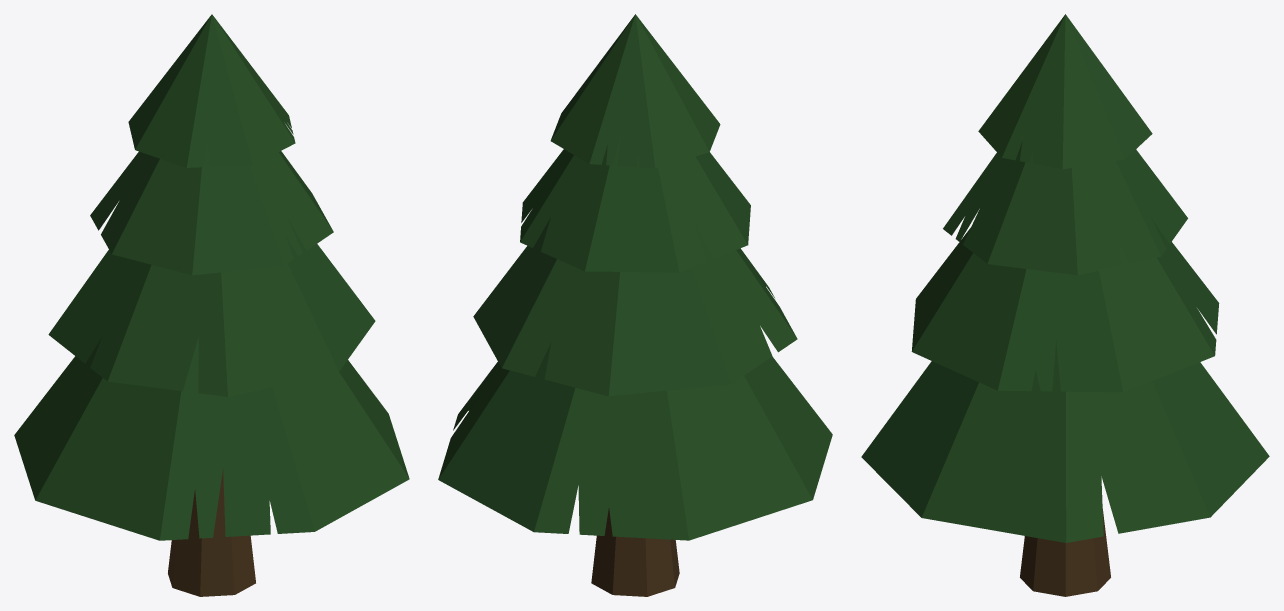
The model's file is Tree_Spruce.fbx.
The picture shows the model from 3 angles, left to right: view 1: azimuth 30°, elevation 25°; view 2: azimuth 150°, elevation 25°; view 3: azimuth 270°, elevation 25°; orthographic projection.
Parts seen in each view (by area): view 1: Tree_Spruce_Leave_1, Tree_Spruce_Leave_2, Tree_Spruce_Leave_3, Tree_Spruce_Leave_4, Tree_Spruce_Trunk; view 2: Tree_Spruce_Leave_1, Tree_Spruce_Leave_2, Tree_Spruce_Leave_3, Tree_Spruce_Leave_4, Tree_Spruce_Trunk; view 3: Tree_Spruce_Leave_1, Tree_Spruce_Leave_2, Tree_Spruce_Leave_3, Tree_Spruce_Leave_4, Tree_Spruce_Trunk.
Boxes of the visible parts, x1,y1,x2,y2 form: Tree_Spruce_Leave_1: (14,337,409,540); Tree_Spruce_Leave_2: (48,217,375,396); Tree_Spruce_Leave_3: (90,142,333,275); Tree_Spruce_Leave_4: (128,14,295,167); Tree_Spruce_Trunk: (168,468,255,596); Tree_Spruce_Leave_1: (438,342,832,540); Tree_Spruce_Leave_2: (473,217,797,396); Tree_Spruce_Leave_3: (520,137,750,272); Tree_Spruce_Leave_4: (550,14,720,168); Tree_Spruce_Trunk: (591,508,679,596); Tree_Spruce_Leave_1: (861,340,1269,542); Tree_Spruce_Leave_2: (911,218,1219,392); Tree_Spruce_Leave_3: (943,141,1187,275); Tree_Spruce_Leave_4: (978,14,1152,169); Tree_Spruce_Trunk: (1020,509,1110,596).
Size of the model in its own units: 9.38 by 14.28 by 9.38.
